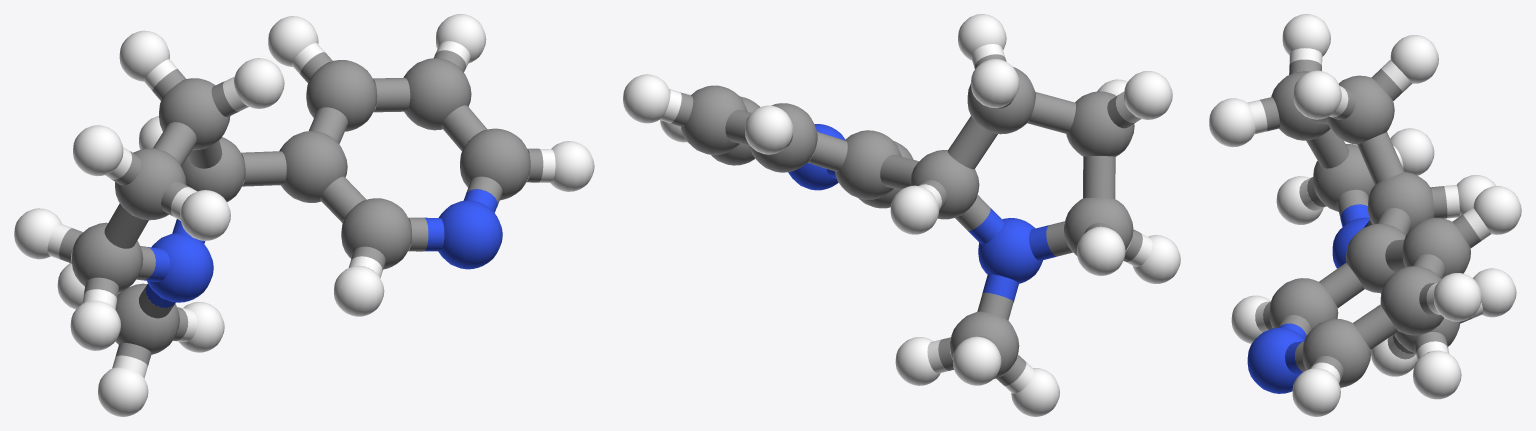
Rendered from DRUGB.glb.
3 views of the same model, side by side, from view 1: azimuth 30°, elevation 25°; view 2: azimuth 150°, elevation 25°; view 3: azimuth 270°, elevation 25° (orthographic). The views are drawn at different scales.
Visible parts, largest first — view 1: Object_16, Object_24, Object_26, Object_20, Object_6, Object_22, Object_10, Object_14, Object_4, Object_12, Object_18, Object_8 (+24 smaller); view 2: Object_16, Object_24, Object_12, Object_4, Object_8, Object_14, Object_10, Object_18, Object_20, Object_28, Object_46, Object_36 (+22 smaller); view 3: Object_24, Object_26, Object_10, Object_20, Object_6, Object_16, Object_8, Object_22, Object_14, Object_32, Object_44, Object_52 (+38 smaller).
Boxes of the visible parts, x1,y1,x2,y2 form: Object_16: (279,131,347,202); Object_24: (403,58,471,130); Object_26: (460,128,530,200); Object_20: (306,60,377,131); Object_6: (438,200,502,269); Object_22: (341,198,411,269); Object_10: (159,78,230,150); Object_14: (72,222,143,292); Object_4: (147,233,213,302); Object_12: (115,148,186,220); Object_18: (115,283,179,354); Object_8: (181,137,245,201); Object_16: (835,130,901,199); Object_24: (681,85,747,154); Object_12: (1066,91,1134,156); Object_4: (978,218,1042,283); Object_8: (910,150,979,219); Object_14: (1064,197,1133,255); Object_10: (967,67,1035,134); Object_18: (950,311,1019,378); Object_20: (749,103,817,172); Object_28: (890,185,939,234); Object_46: (953,336,1001,385); Object_36: (1124,71,1172,119); Object_24: (1380,266,1443,335); Object_26: (1302,319,1371,387); Object_10: (1326,75,1394,144); Object_20: (1402,217,1470,277); Object_6: (1247,327,1304,393); Object_16: (1346,223,1405,292); Object_8: (1368,172,1434,230); Object_22: (1269,278,1338,329); Object_14: (1313,144,1374,211); Object_32: (1293,70,1341,119); Object_44: (1413,350,1461,399); Object_52: (1433,273,1481,321).
Bounding box in the file's own units: 8.57 × 5.71 × 4.59.
